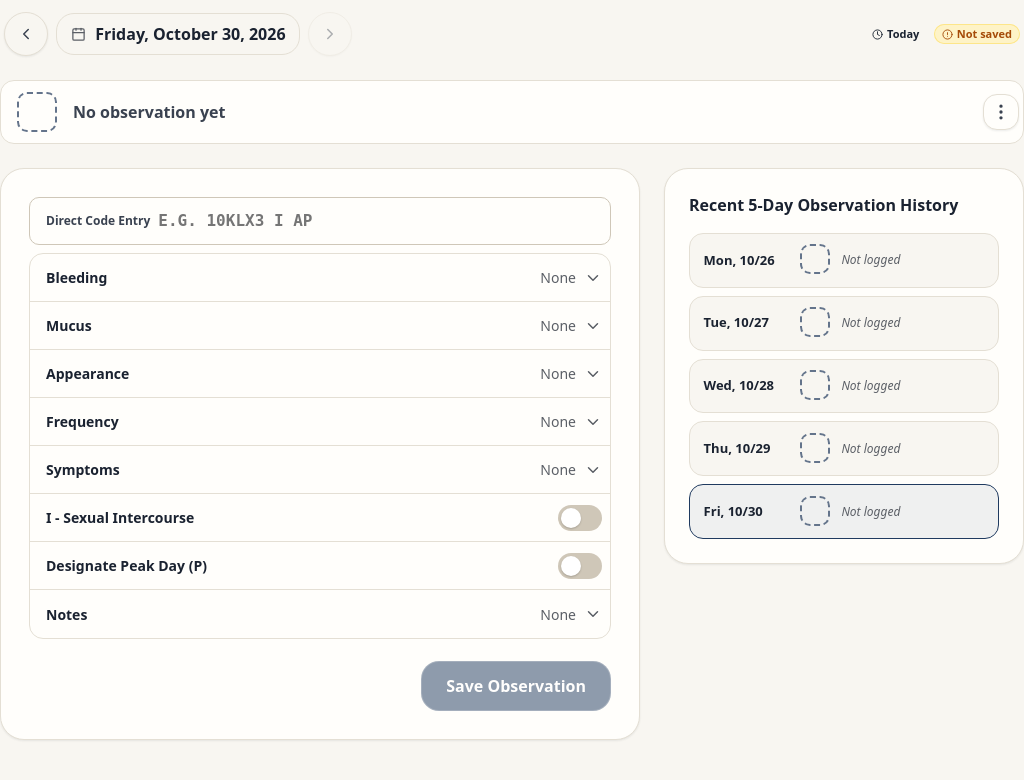
Scenario: TodayView Component (Dedicated Today Page) › allows stepping to previous and next days, up to today
This screenshot has width=1024, height=780.
Step 1. Click the button named "Previous Day" → (26, 34), box [4,12,48,56]
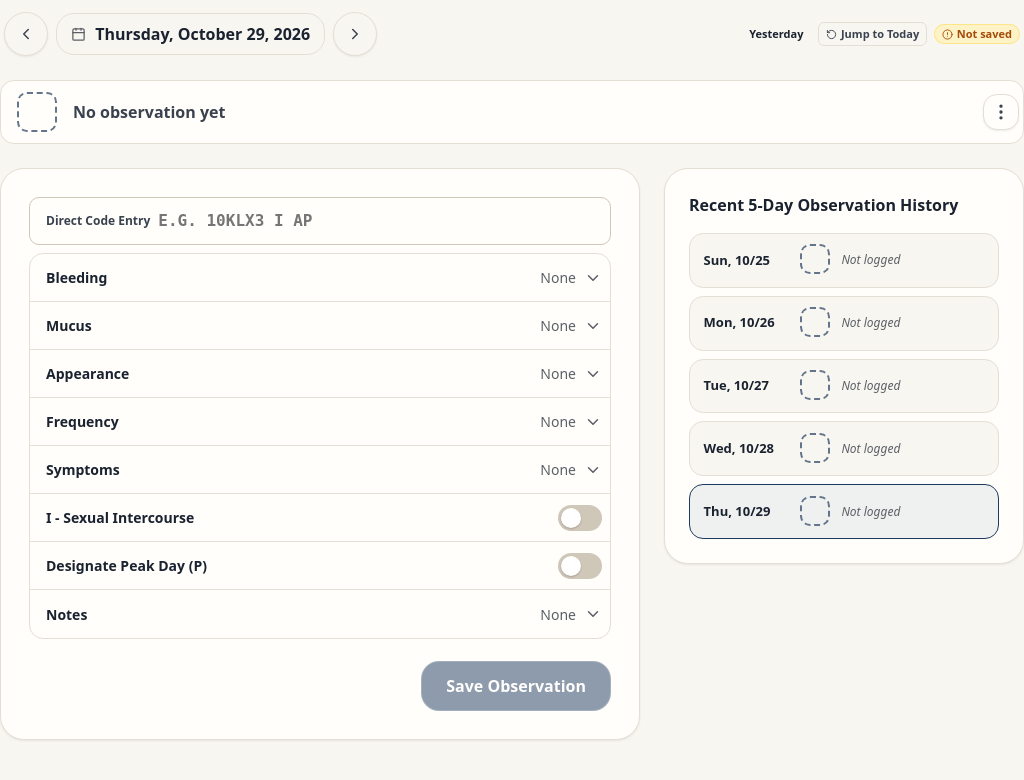
Step 2. Click the button named "Next Day" → (355, 34), box [333,12,377,56]
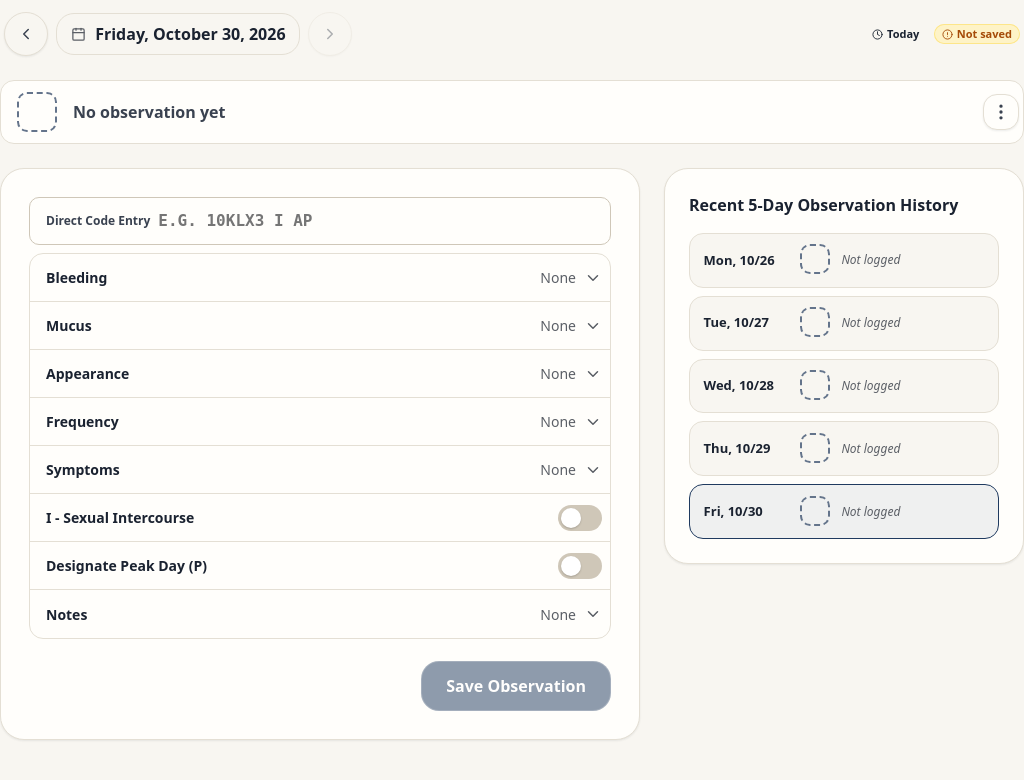
Now the button named "Next Day" is disabled, box [308,12,352,56]
